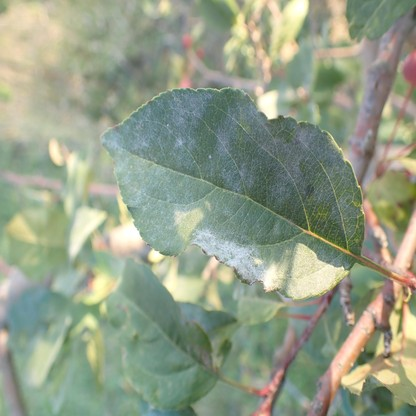powdery_mildew: (98, 90, 212, 251), (214, 100, 356, 227), (193, 231, 267, 280), (320, 251, 350, 270), (271, 221, 280, 237)
